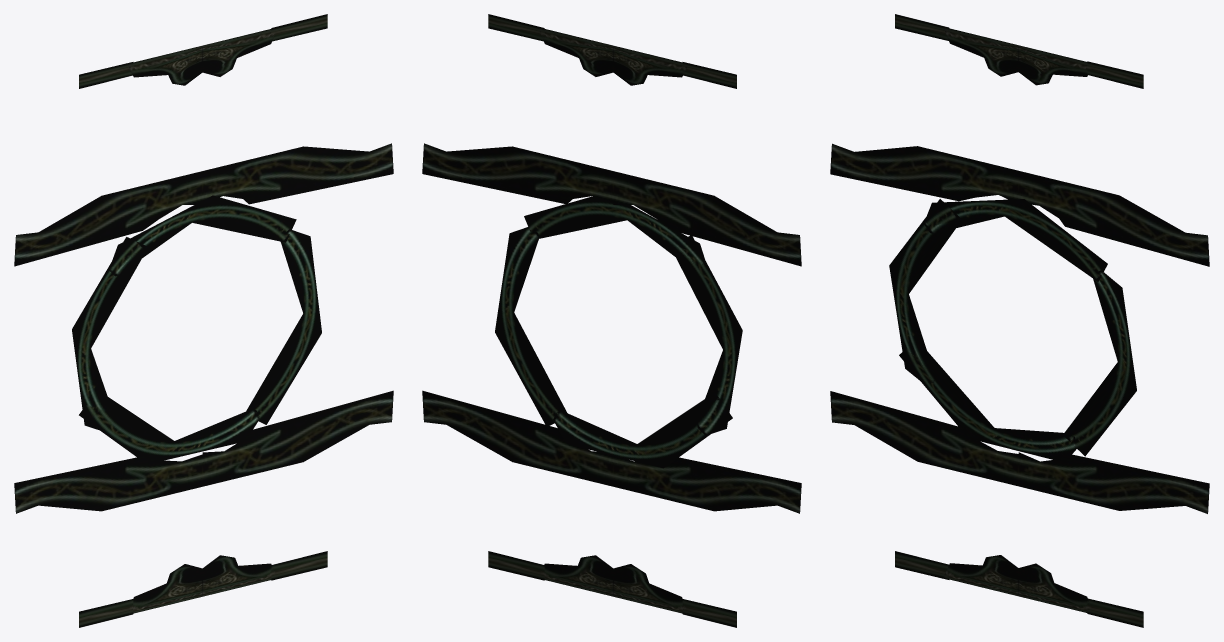
File: gui_skill_window.fbx
3 views of the same model, side by side, from view 1: azimuth 30°, elevation 25°; view 2: azimuth 150°, elevation 25°; view 3: azimuth 330°, elevation 25° (orthographic).
Visible parts, largest first — view 1: pPlane74, pPlane56, pPlane73, pPlane55, pPlane59, pPlane60, pPlane61, pPlane54, pPlane79, pPlane88, pPlane93, pPlane81 (+4 smaller); view 2: pPlane56, pPlane74, pPlane55, pPlane73, pPlane59, pPlane61, pPlane60, pPlane54, pPlane88, pPlane79, pPlane93, pPlane81 (+4 smaller); view 3: pPlane74, pPlane56, pPlane73, pPlane55, pPlane59, pPlane60, pPlane61, pPlane54, pPlane88, pPlane79, pPlane93, pPlane81 (+4 smaller).
Boxes of the visible parts, x1,y1,x2,y2 form: pPlane74: (202,390,393,486); pPlane56: (202,143,393,204); pPlane73: (14,454,202,513); pPlane55: (14,171,202,266); pPlane59: (246,229,321,424); pPlane60: (79,397,259,460); pPlane61: (72,237,148,429); pPlane54: (109,195,296,276); pPlane79: (202,555,274,596); pPlane88: (128,564,202,614); pPlane93: (127,45,202,85); pPlane81: (202,29,274,76); pPlane56: (422,143,613,204); pPlane74: (422,390,613,486); pPlane55: (613,171,801,266); pPlane73: (613,455,801,513); pPlane59: (495,227,566,426); pPlane61: (670,235,742,435); pPlane60: (553,392,732,468); pPlane54: (524,196,705,268); pPlane88: (613,564,686,613); pPlane79: (543,555,613,596); pPlane93: (613,45,688,85); pPlane81: (539,27,613,76); pPlane74: (1018,452,1209,513); pPlane56: (1018,171,1209,266); pPlane73: (830,391,1018,486); pPlane55: (830,143,1018,201); pPlane59: (1063,270,1136,456); pPlane60: (899,348,1076,459); pPlane61: (889,199,961,383); pPlane54: (924,199,1107,281); pPlane88: (943,555,1018,596); pPlane79: (1018,563,1089,612); pPlane93: (943,27,1018,76); pPlane81: (1018,45,1091,85).
Size of the model in its own units: 314 by 437 by 7.01.
1 material, 1 textured.
